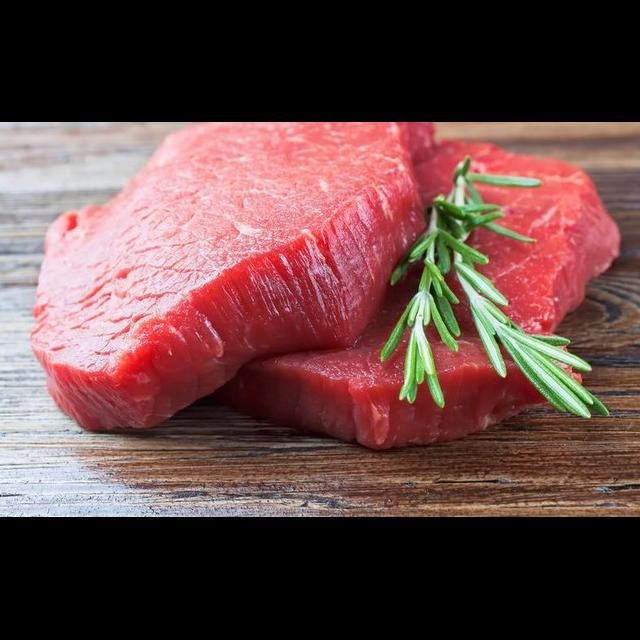beef: (21, 123, 441, 454), (175, 309, 606, 459), (363, 133, 640, 327)
